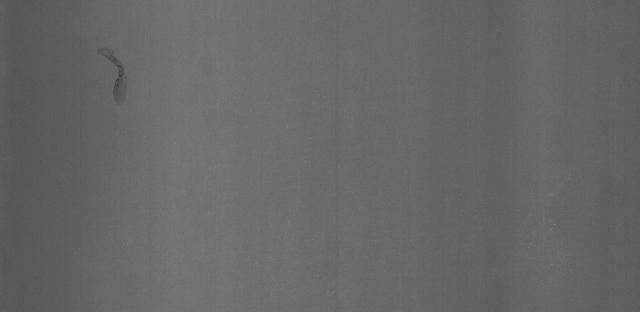water_spot: (94, 42, 141, 118)
